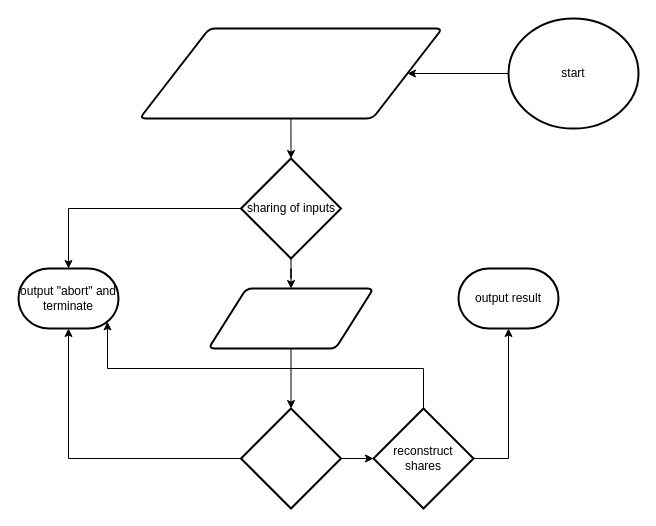
This 656x526 diagram has some shape labels left out. Each missing label, with the box of its shape:
circuits emulation: (207, 287, 374, 349)
share of circuit and pre-determined data: (138, 27, 443, 119)
vrification stage: (240, 407, 342, 509)
